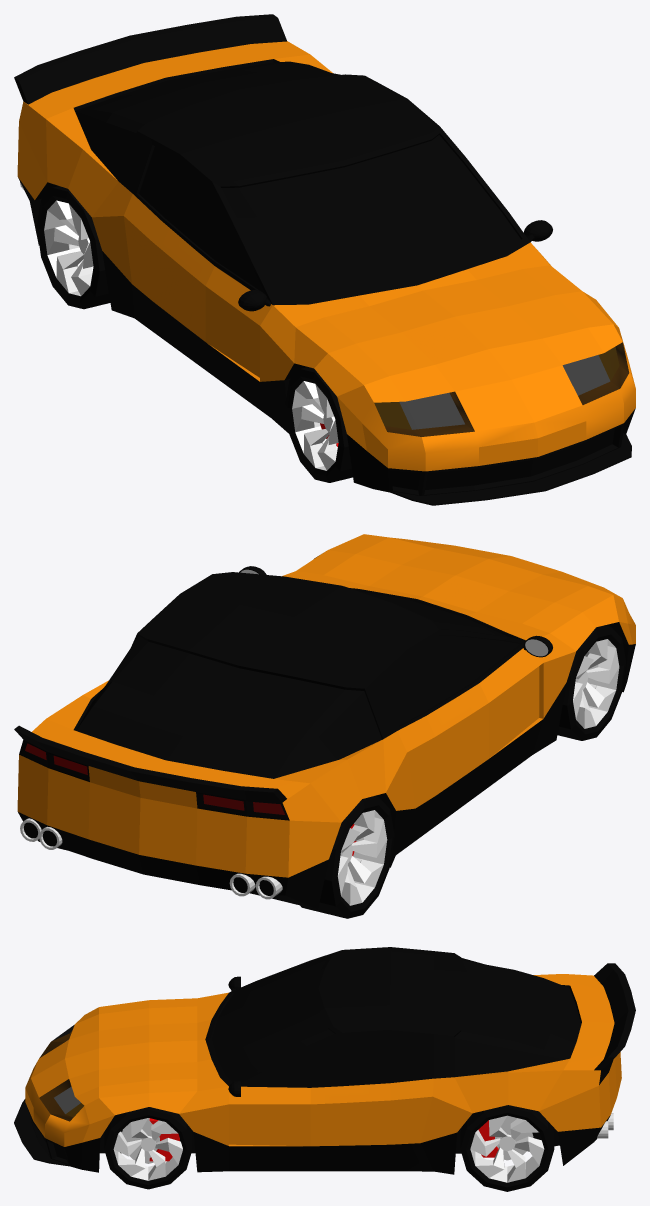
Rendered from car.gltf.
3 views of the same model, one above another, from view 1: azimuth 30°, elevation 25°; view 2: azimuth 150°, elevation 25°; view 3: azimuth 270°, elevation 25° (orthographic). The views are drawn at different scales.
Parts seen in each view (by area): view 1: Muscle car 2.Body, 5.Wheel.Bk.R, 5.Wheel.Ft.R; view 2: Muscle car 2.Body, 5.Wheel.Bk.R, 5.Wheel.Ft.R; view 3: Muscle car 2.Body, 5.Wheel.Bk.L, 5.Wheel.Ft.L.
Boxes of the visible parts, box(x1,y1,x2,y2) form: Muscle car 2.Body: box(14, 14, 635, 505); 5.Wheel.Bk.R: box(36, 186, 110, 309); 5.Wheel.Ft.R: box(285, 367, 352, 482); Muscle car 2.Body: box(14, 534, 635, 909); 5.Wheel.Bk.R: box(300, 796, 394, 918); 5.Wheel.Ft.R: box(557, 625, 625, 740); Muscle car 2.Body: box(14, 947, 635, 1174); 5.Wheel.Bk.L: box(460, 1105, 554, 1191); 5.Wheel.Ft.L: box(104, 1107, 192, 1189).
Size of the model in its own units: 135 by 85.03 by 313.
